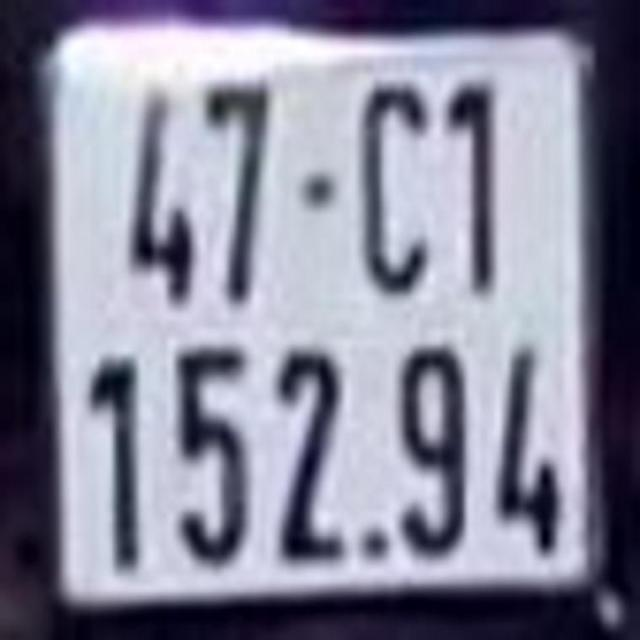1: (446, 82, 506, 296), (84, 353, 145, 562)
2: (280, 347, 342, 559)
4: (132, 90, 208, 309), (496, 343, 564, 556)
5: (175, 343, 253, 562)
7: (209, 88, 274, 299)
9: (392, 338, 469, 552)
C: (356, 85, 431, 290)
